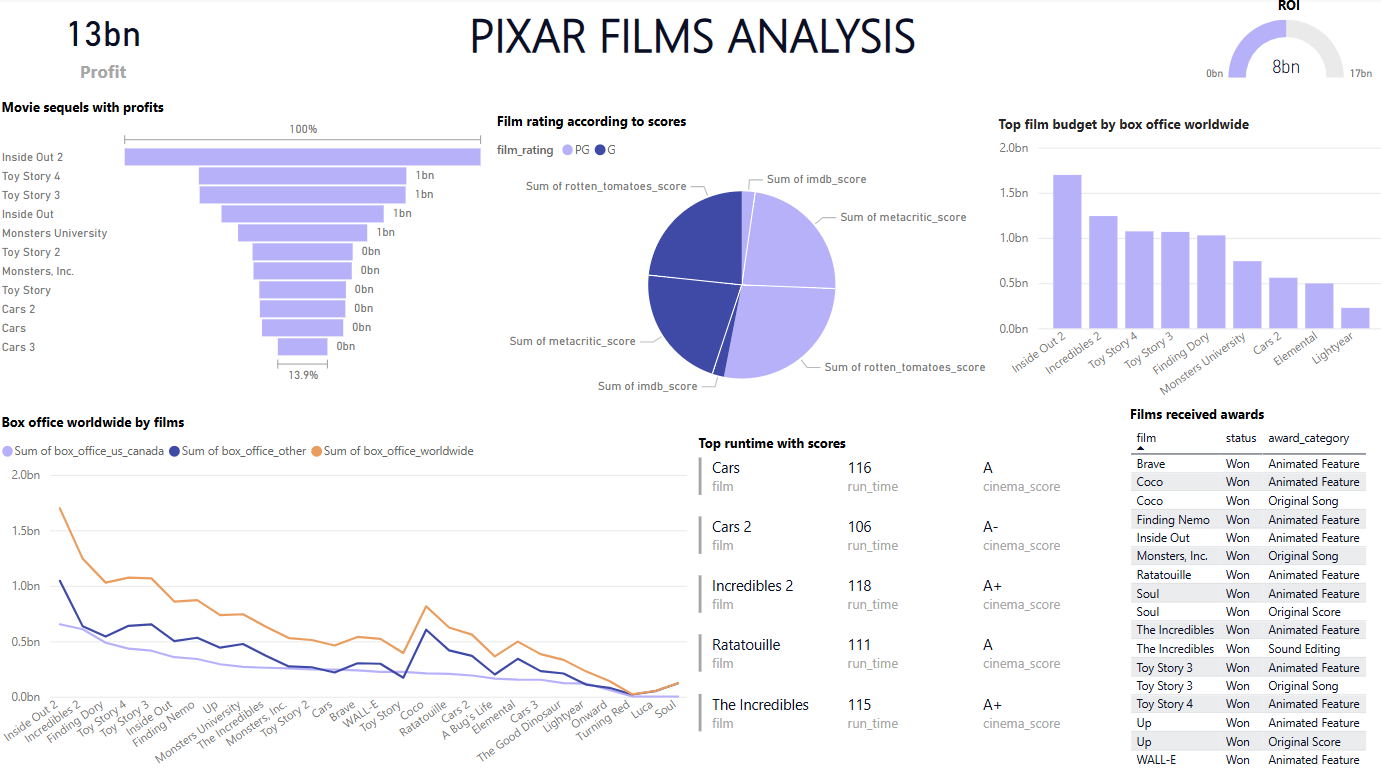

This screenshot's page, from the dashboard's own definition file:
{"tool":"powerbi","page":{"name":"Page 1","canvas":[1280,720],"ordinal":0},"visuals":[{"type":"textbox","box":[342.4,0,595.7,69.6],"z":0},{"type":"funnel","title":"Movie sequels with profits","fields":{"Category":["pixar_films.film"],"Y":["academy.Profit"]},"box":[0,92.6,455.2,266.7],"z":1000},{"type":"columnChart","title":"Top film budget by box office worldwide","fields":{"Category":["pixar_films.film"],"Y":["Sum(box_office.box_office_worldwide)"]},"box":[915.2,108.5,364.8,273.6],"z":2000},{"type":"tableEx","title":"Films received awards","fields":{"Values":["academy.film","academy.status","academy.award_type"]},"box":[1036.6,375.4,242.8,345],"z":3000},{"type":"card","fields":{"Values":["academy.Profit"]},"box":[0,0,196.5,84.7],"z":4000},{"type":"pieChart","title":"Film rating according to scores","fields":{"Category":["pixar_films.film_rating"],"Y":["Sum(public_response.imdb_score)","Sum(public_response.metacritic_score)","Sum(public_response.rotten_tomatoes_score)"]},"box":[455.2,105.4,460,276.3],"z":5000},{"type":"gauge","fields":{"Y":["academy.ROI"]},"box":[1097.3,0,182.1,84.7],"z":6000},{"type":"lineChart","title":"Box office worldwide by films","fields":{"Y":["Sum(box_office.box_office_us_canada)","Sum(box_office.box_office_other)","Sum(box_office.box_office_worldwide)"],"Category":["pixar_films.film"]},"box":[0,382.1,640,338.1],"z":7000},{"type":"multiRowCard","title":"Top runtime with scores","fields":{"Values":["pixar_films.film","pixar_films.run_time","public_response.cinema_score"]},"box":[640.5,402.5,396.1,317.9],"z":7001}]}

Visuals, with their boxes in screenshot pixels (x1, y1, x2, y2), scaled from the page's 1280x720 canvas onto the 1381x769 screenshot:
textbox: left=369, top=0, right=1012, bottom=74
"Movie sequels with profits" funnel: left=0, top=99, right=491, bottom=384
"Top film budget by box office worldwide" columnChart: left=987, top=116, right=1380, bottom=408
"Films received awards" tableEx: left=1118, top=401, right=1380, bottom=768
card - academy.Profit: left=0, top=0, right=212, bottom=90
"Film rating according to scores" pieChart: left=491, top=113, right=987, bottom=408
gauge - academy.ROI: left=1184, top=0, right=1380, bottom=90
"Box office worldwide by films" lineChart: left=0, top=408, right=690, bottom=768
"Top runtime with scores" multiRowCard: left=691, top=430, right=1118, bottom=768
